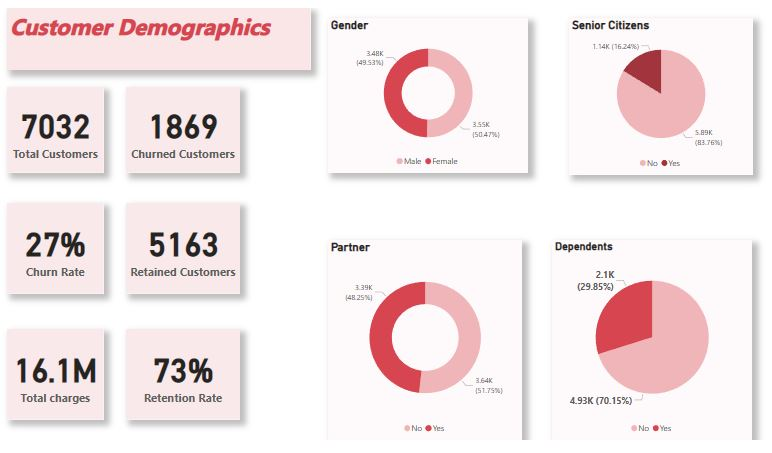

Layout of this report page (visuals, bound fields, positions):
{"tool":"powerbi","page":{"name":"Customer Demographics","canvas":[1280,720],"ordinal":0},"visuals":[{"type":"textbox","box":[10.1,0,505.6,104.1],"z":0},{"type":"card","fields":{"Values":["Count(01 Churn-Dataset.customerID)"]},"box":[10.1,132.5,161.3,142.6],"z":1000},{"type":"card","fields":{"Values":["Max(01 Churn-Dataset.Churn Rate)"]},"box":[10.1,325.4,161.3,151.2],"z":2000},{"type":"card","fields":{"Values":["Sum(01 Churn-Dataset.TotalCharges)"]},"box":[10.1,534.2,161.3,151.2],"z":3000},{"type":"donutChart","title":"Gender","fields":{"Category":["01 Churn-Dataset.gender"],"Y":["CountNonNull(01 Churn-Dataset.customerID)"]},"box":[544.3,17.3,334.1,257.8],"z":4000},{"type":"donutChart","title":"Partner","fields":{"Category":["01 Churn-Dataset.Partner"],"Y":["CountNonNull(01 Churn-Dataset.customerID)"]},"box":[544.3,387.4,324,332.6],"z":5000},{"type":"pieChart","title":"Senior Citizens","fields":{"Category":["01 Churn-Dataset.SeniorCitizen"],"Y":["CountNonNull(01 Churn-Dataset.customerID)"]},"box":[946.1,17.3,306.7,260.6],"z":6000},{"type":"pieChart","title":"Dependents","fields":{"Category":["01 Churn-Dataset.Dependents"],"Y":["CountNonNull(01 Churn-Dataset.customerID)"]},"box":[918.7,387.4,334.1,332.6],"z":7000},{"type":"card","fields":{"Values":["Min(01 Churn-Dataset.Churned Customers)"]},"box":[208.8,132.5,190.1,142.6],"z":8000},{"type":"card","fields":{"Values":["Min(01 Churn-Dataset.Retained Customers)"]},"box":[208.8,325.4,190.1,151.2],"z":9000},{"type":"card","fields":{"Values":["Min(01 Churn-Dataset.Retention Rate)"]},"box":[208.8,534.2,190.1,151.2],"z":10000}]}

Visuals, with their boxes on the page's 1280x720 design canvas (x1, y1, x2, y2). These are canvas units, not pixel positions in the 772x453 screenshot, which may show the page scaled, cropped or inside an application window:
textbox: x1=10, y1=0, x2=516, y2=104
card - Count(01 Churn-Dataset.customerID): x1=10, y1=132, x2=171, y2=275
card - Max(01 Churn-Dataset.Churn Rate): x1=10, y1=325, x2=171, y2=477
card - Sum(01 Churn-Dataset.TotalCharges): x1=10, y1=534, x2=171, y2=685
"Gender" donutChart: x1=544, y1=17, x2=878, y2=275
"Partner" donutChart: x1=544, y1=387, x2=868, y2=720
"Senior Citizens" pieChart: x1=946, y1=17, x2=1253, y2=278
"Dependents" pieChart: x1=919, y1=387, x2=1253, y2=720
card - Min(01 Churn-Dataset.Churned Customers): x1=209, y1=132, x2=399, y2=275
card - Min(01 Churn-Dataset.Retained Customers): x1=209, y1=325, x2=399, y2=477
card - Min(01 Churn-Dataset.Retention Rate): x1=209, y1=534, x2=399, y2=685
